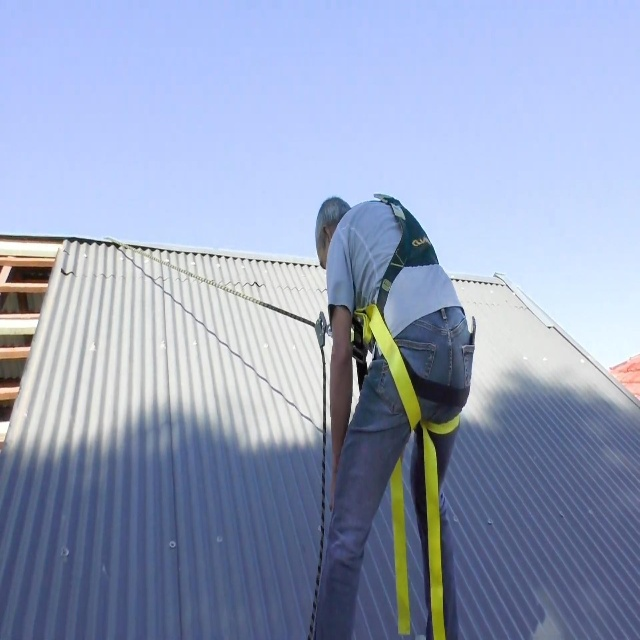Arnes_seguridad: (355, 176, 464, 640)
